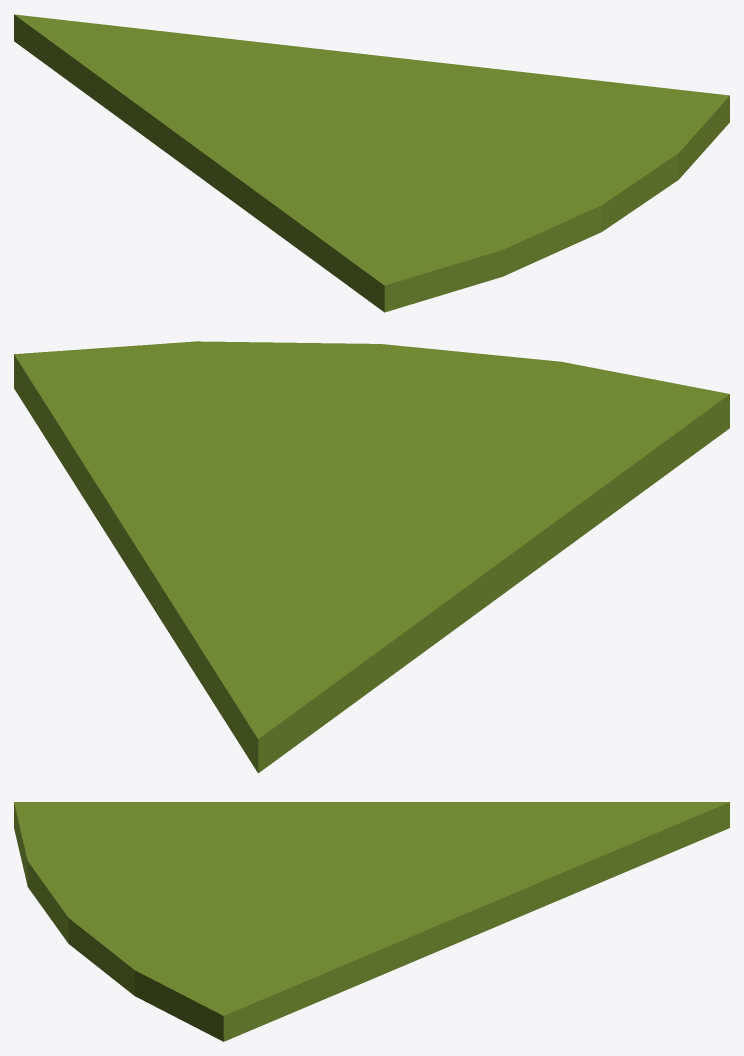
The model's file is forest_4.glb.
The picture shows the model from 3 angles, top to bottom: view 1: azimuth 30°, elevation 25°; view 2: azimuth 150°, elevation 25°; view 3: azimuth 270°, elevation 25°; orthographic projection. The views are drawn at different scales.
Parts seen in each view (by area): view 1: Cylinder; view 2: Cylinder; view 3: Cylinder.
Boxes of the visible parts, bbox=[...] form: Cylinder: bbox=[14, 14, 729, 312]; Cylinder: bbox=[14, 341, 729, 773]; Cylinder: bbox=[14, 802, 729, 1041].
Bounding box in the file's own units: 70.71 × 4 × 100.
